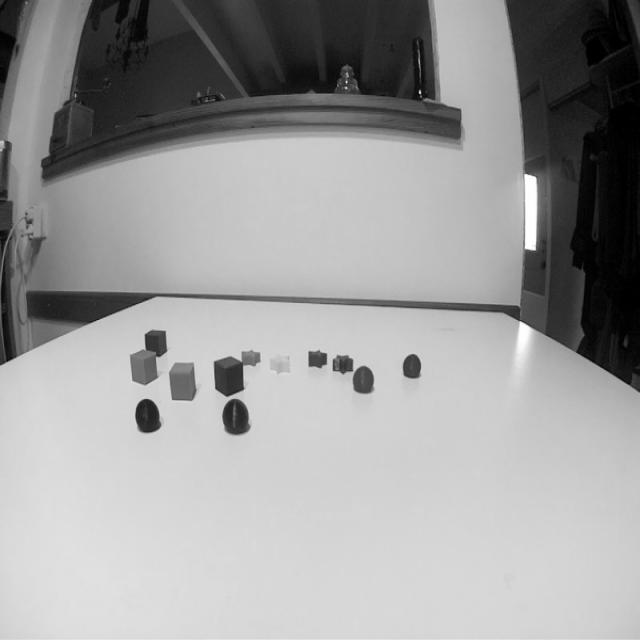ball: (222, 398, 252, 438), (134, 396, 161, 436), (352, 364, 376, 398), (402, 350, 422, 382)
cube: (212, 353, 245, 398), (126, 347, 160, 388), (168, 359, 197, 403), (143, 327, 169, 357)
star: (267, 349, 293, 379), (305, 347, 331, 371), (330, 351, 356, 374), (240, 347, 263, 369)
